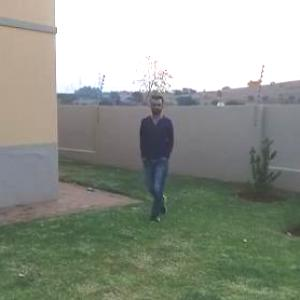follow: (133, 93, 175, 216)
